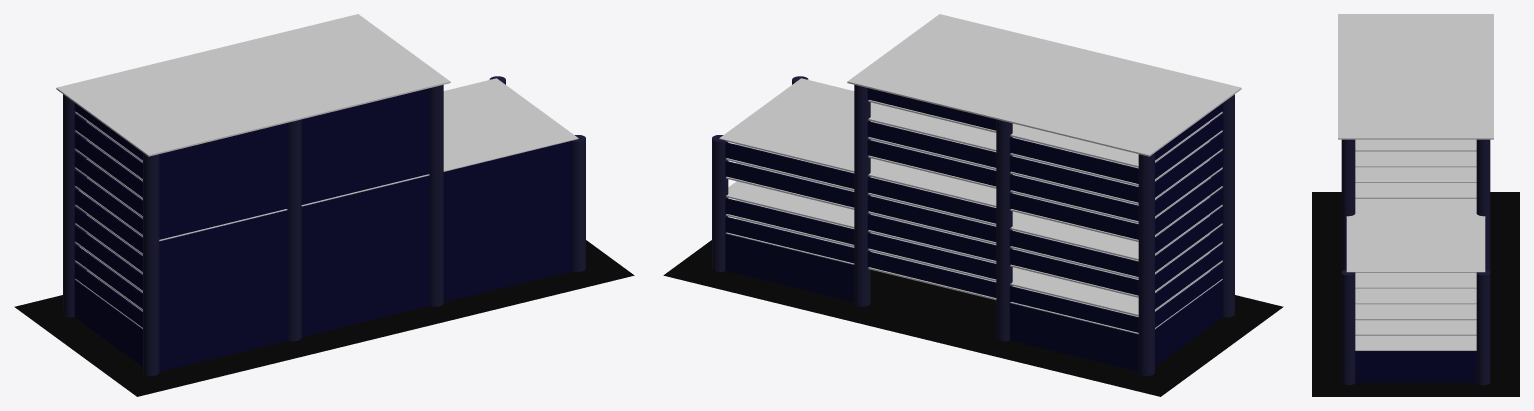
The model's file is MenuBuilding2.dae.
3 renders of one model, left to right at view 1: azimuth 30°, elevation 25°; view 2: azimuth 150°, elevation 25°; view 3: azimuth 270°, elevation 25°, orthographic. The views are drawn at different scales.
Visible parts, largest first — view 1: Cube.042, Cube.011, Cube.043, Plane, Cube.012, Cylinder, Cylinder.003, Cylinder.002, Cylinder.007, Cube.044, Cylinder.004, Cube.036 (+9 smaller); view 2: Cube.011, Plane, Cube.012, Cube, Cube.010, Cube.003, Cube.001, Cylinder.007, Cube.002, Cylinder.001, Cylinder.006, Cube.008 (+37 smaller); view 3: Cube.011, Plane, Cube.012, Cube.045, Cube.008, Cube.006, Cube.002, Cube.007, Cube.004, Cube.003, Cube.001, Cube.005 (+5 smaller).
Part boxes in pixels (x1=…): Cube.042: x1=159, y1=139, x2=578, y2=371; Cube.011: x1=56, y1=14, x2=450, y2=156; Cube.043: x1=159, y1=88, x2=430, y2=239; Plane: x1=14, y1=240, x2=634, y2=396; Cube.012: x1=75, y1=78, x2=578, y2=241; Cylinder: x1=143, y1=153, x2=159, y2=375; Cylinder.003: x1=287, y1=119, x2=301, y2=341; Cylinder.002: x1=429, y1=85, x2=443, y2=306; Cylinder.007: x1=63, y1=94, x2=79, y2=317; Cube.044: x1=74, y1=280, x2=142, y2=366; Cylinder.004: x1=572, y1=135, x2=585, y2=271; Cube.036: x1=74, y1=188, x2=142, y2=253; Cube.011: x1=847, y1=14, x2=1241, y2=156; Plane: x1=663, y1=240, x2=1283, y2=396; Cube.012: x1=719, y1=78, x2=1222, y2=241; Cube: x1=725, y1=233, x2=854, y2=302; Cube.010: x1=1009, y1=303, x2=1138, y2=371; Cube.003: x1=726, y1=144, x2=1222, y2=260; Cube.001: x1=726, y1=200, x2=1222, y2=316; Cylinder.007: x1=1138, y1=153, x2=1154, y2=375; Cube.002: x1=726, y1=181, x2=1222, y2=297; Cylinder.001: x1=854, y1=85, x2=870, y2=306; Cylinder.006: x1=996, y1=119, x2=1012, y2=341; Cube.008: x1=868, y1=104, x2=1222, y2=186; Cube.011: x1=1338, y1=14, x2=1493, y2=139; Plane: x1=1312, y1=192, x2=1519, y2=396; Cube.012: x1=1346, y1=199, x2=1485, y2=272; Cube.045: x1=1355, y1=351, x2=1476, y2=382; Cube.008: x1=1355, y1=151, x2=1476, y2=167; Cube.006: x1=1355, y1=288, x2=1476, y2=304; Cube.002: x1=1355, y1=304, x2=1476, y2=320; Cube.007: x1=1355, y1=167, x2=1476, y2=182; Cube.004: x1=1355, y1=183, x2=1476, y2=198; Cube.003: x1=1355, y1=273, x2=1476, y2=288; Cube.001: x1=1355, y1=320, x2=1476, y2=335; Cube.005: x1=1355, y1=336, x2=1476, y2=350.
Size of the model in its own units: 140 by 60 by 60.2.
